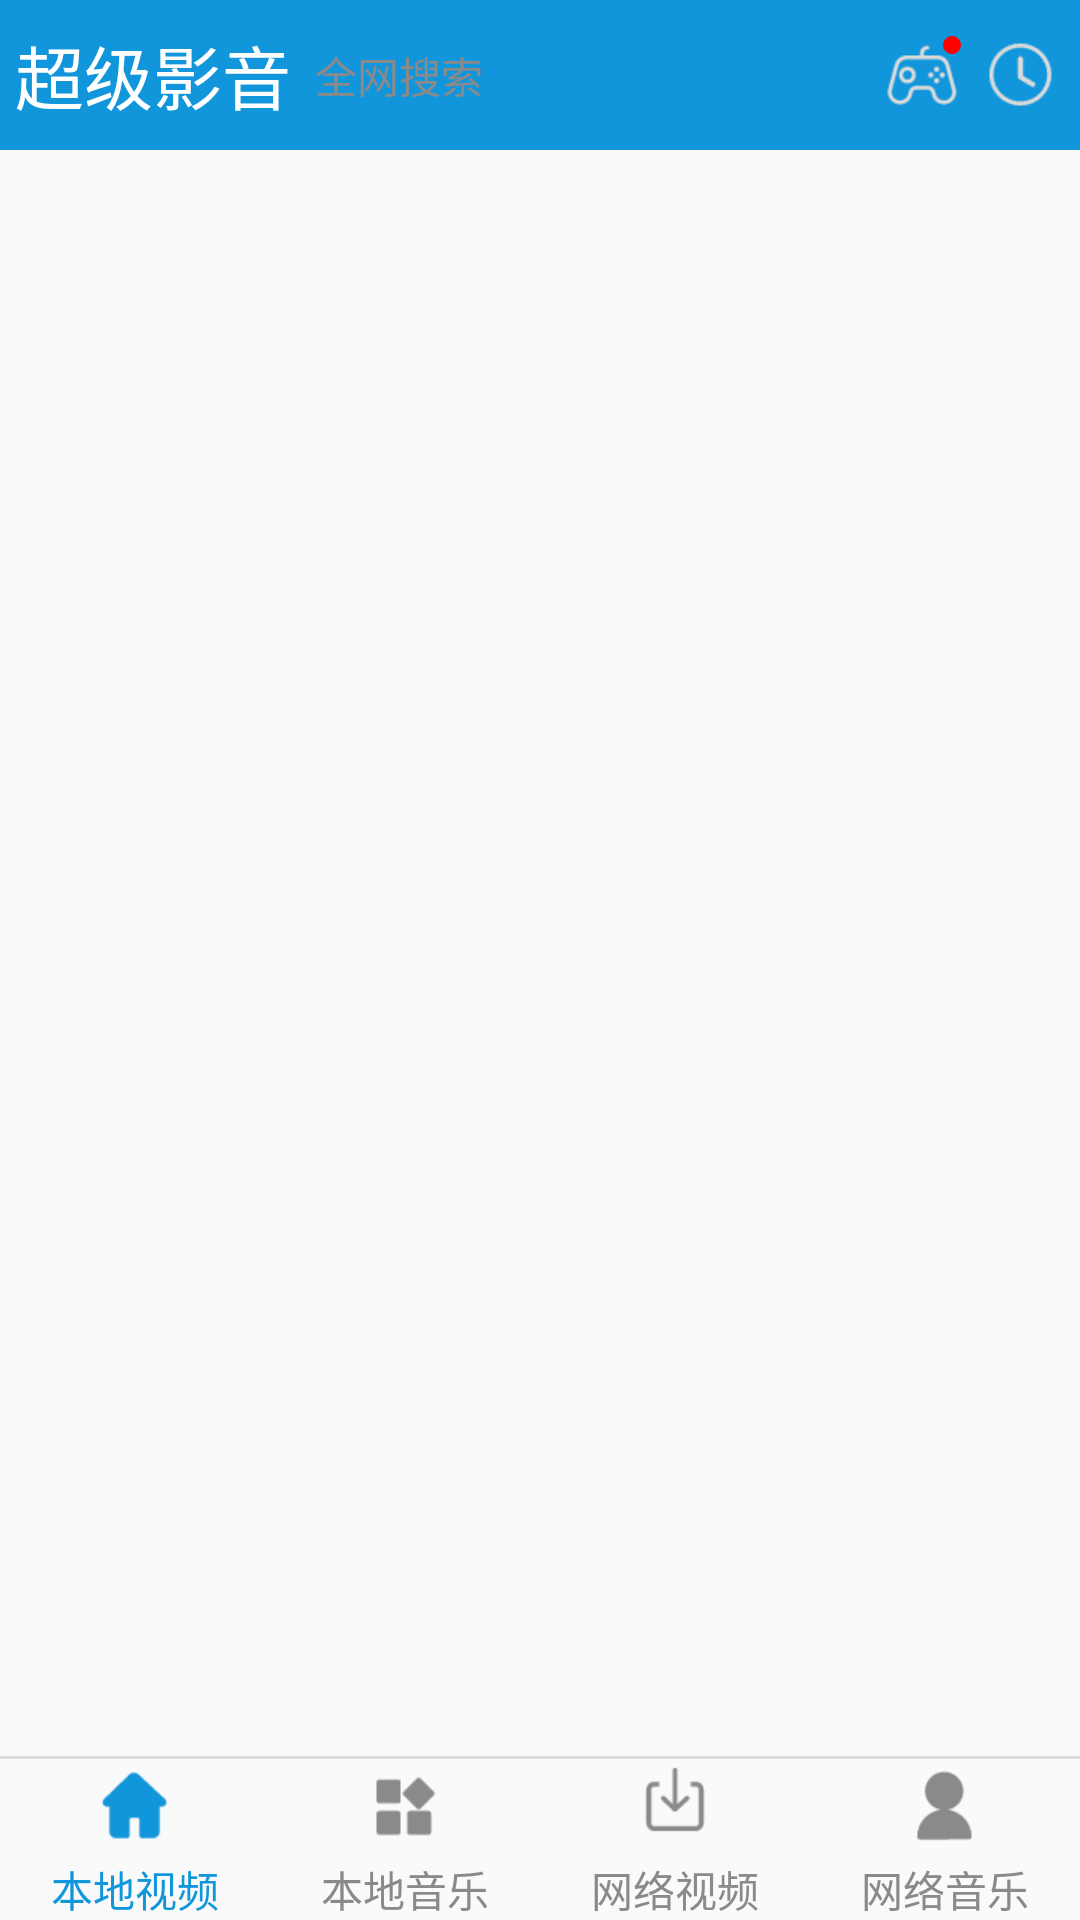

Named icons in this screenshot (1080*1920) and their centers, [x,y]:
history: [1020,74]
